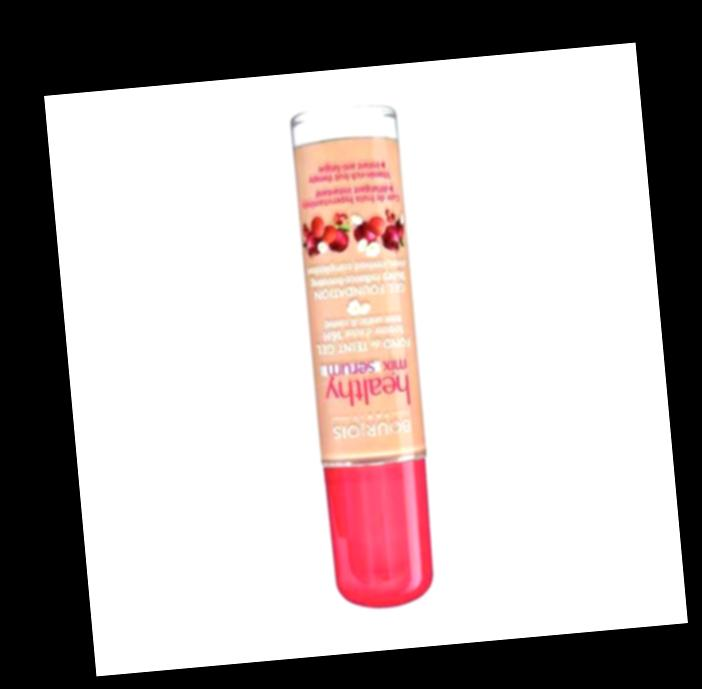cosmetic: (288, 106, 443, 612)
